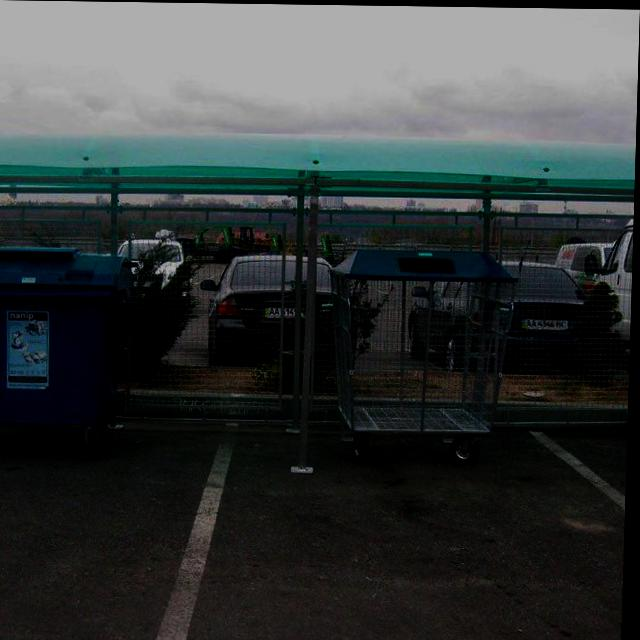Trash_Can_Closed: (0, 247, 139, 424)
